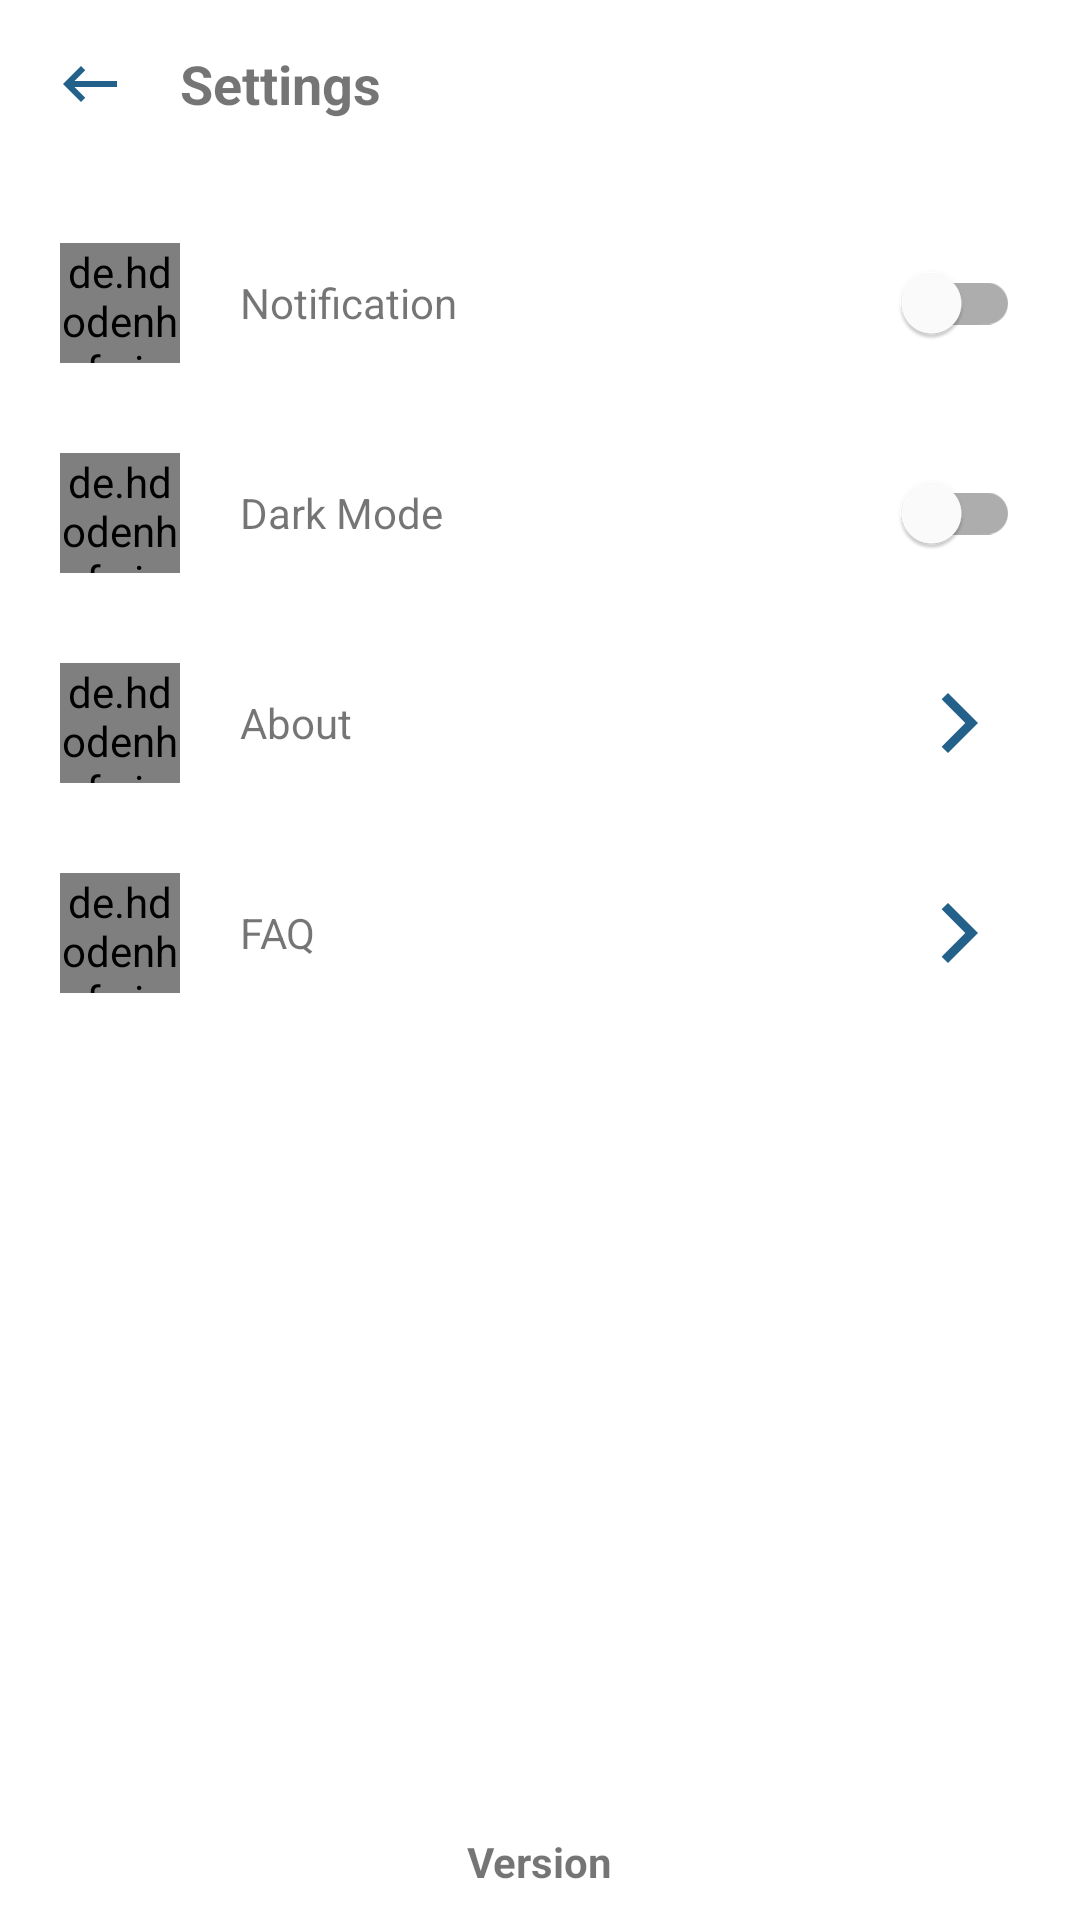

Icons on this 1080 × 1920 Android screen, each with its box as {"x1": x1, "y1": y1, "x2": x2, "y2": y2}:
arrow forward: {"x1": 941, "y1": 693, "x2": 978, "y2": 753}, {"x1": 941, "y1": 903, "x2": 978, "y2": 963}
back: {"x1": 63, "y1": 66, "x2": 117, "y2": 102}
